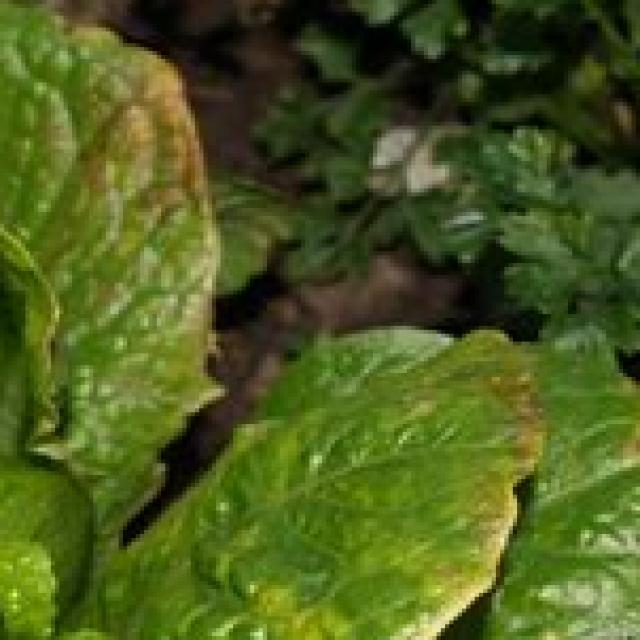lettuce mosaic virus: (129, 344, 616, 616), (28, 9, 215, 632)
